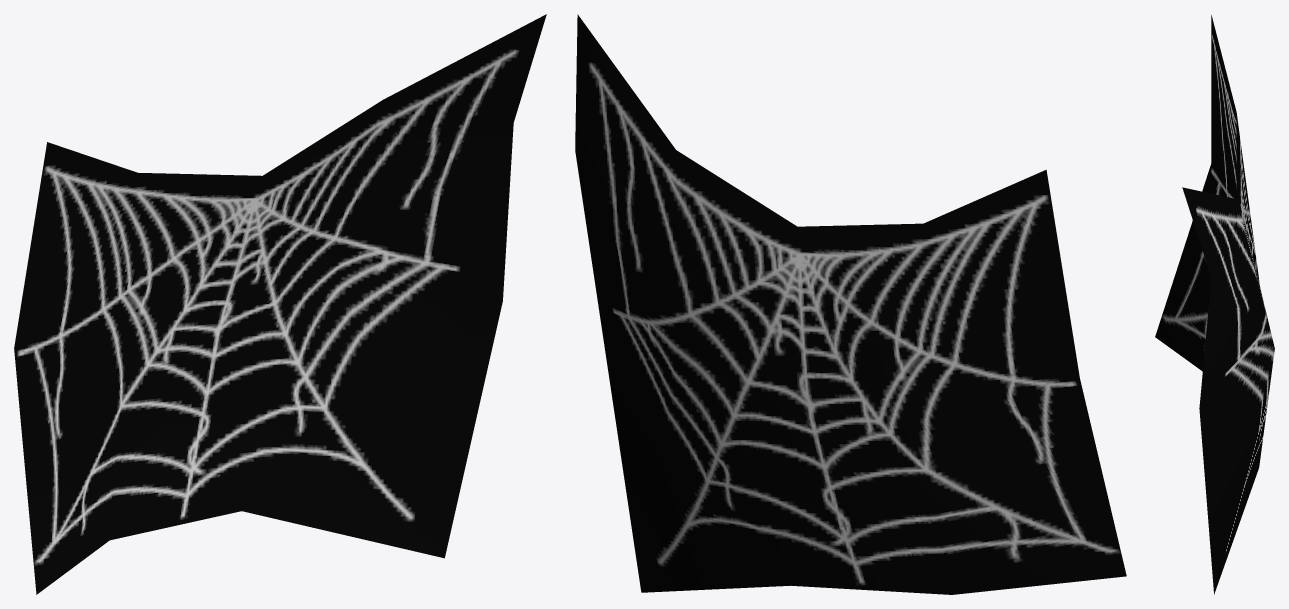
Rendered from SM_Cobwebs_10.fbx.
3 views of the same model, side by side, from view 1: azimuth 30°, elevation 25°; view 2: azimuth 150°, elevation 25°; view 3: azimuth 270°, elevation 25° (orthographic). The views are drawn at different scales.
Parts seen in each view (by area): view 1: SM_Cobwebs_10; view 2: SM_Cobwebs_10; view 3: SM_Cobwebs_10.
Part boxes in pixels (x1,y1,x2,y2): SM_Cobwebs_10: (14, 14, 546, 594); SM_Cobwebs_10: (575, 14, 1126, 594); SM_Cobwebs_10: (1155, 15, 1274, 594).
Size of the model in its own units: 75.04 by 73.27 by 18.07.
1 material, 1 textured.
